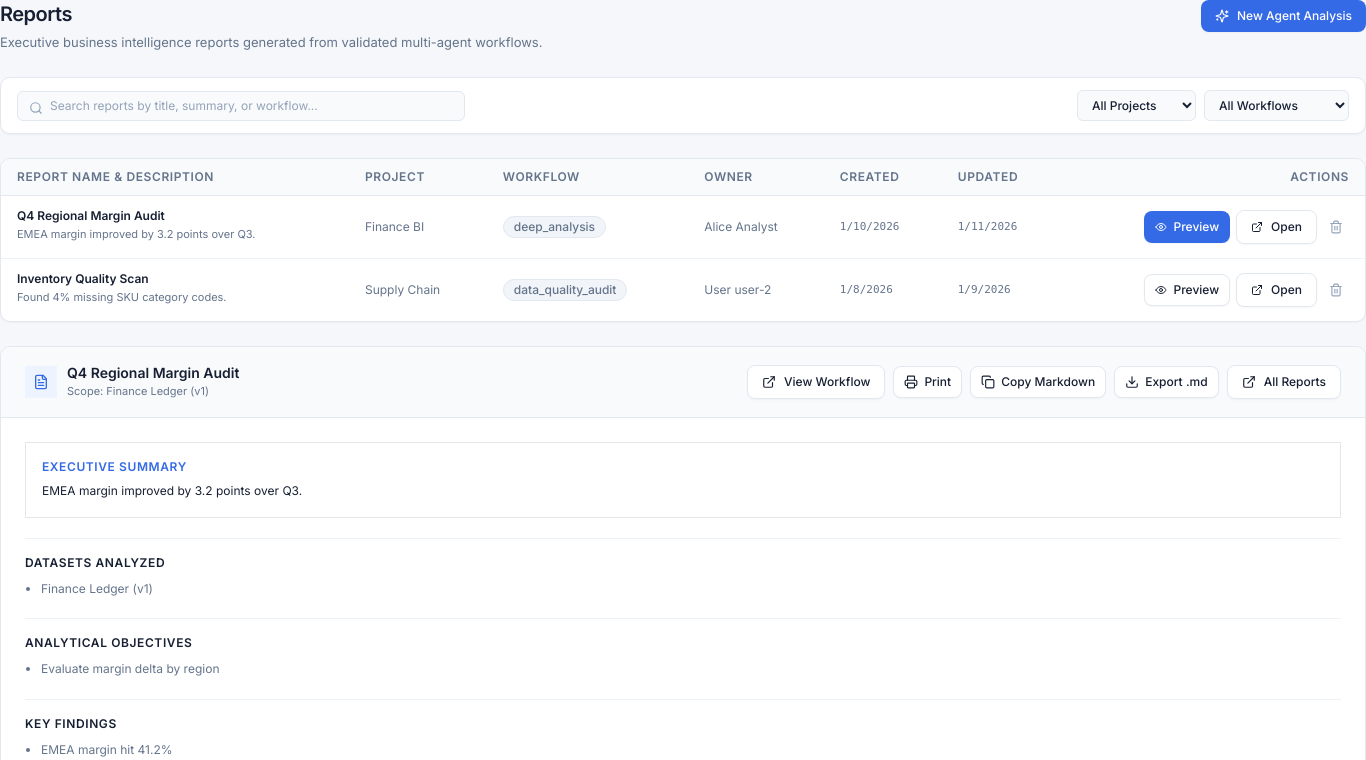
Test: Stage 6 — Reports, History, Saved Queries, Settings & Profile, and Help › renders Reports library with search/filters, BI charts inside report detail, and confirmed delete
Later steps or results of the test are not shown.
Check: the text "Finance BI" is shown, box [349,196,487,259]
# Filter by workflow type
Select "data_quality_audit" in the dropdown named "Filter reports by workflow" at [1276, 106], box [1204,90,1349,121]
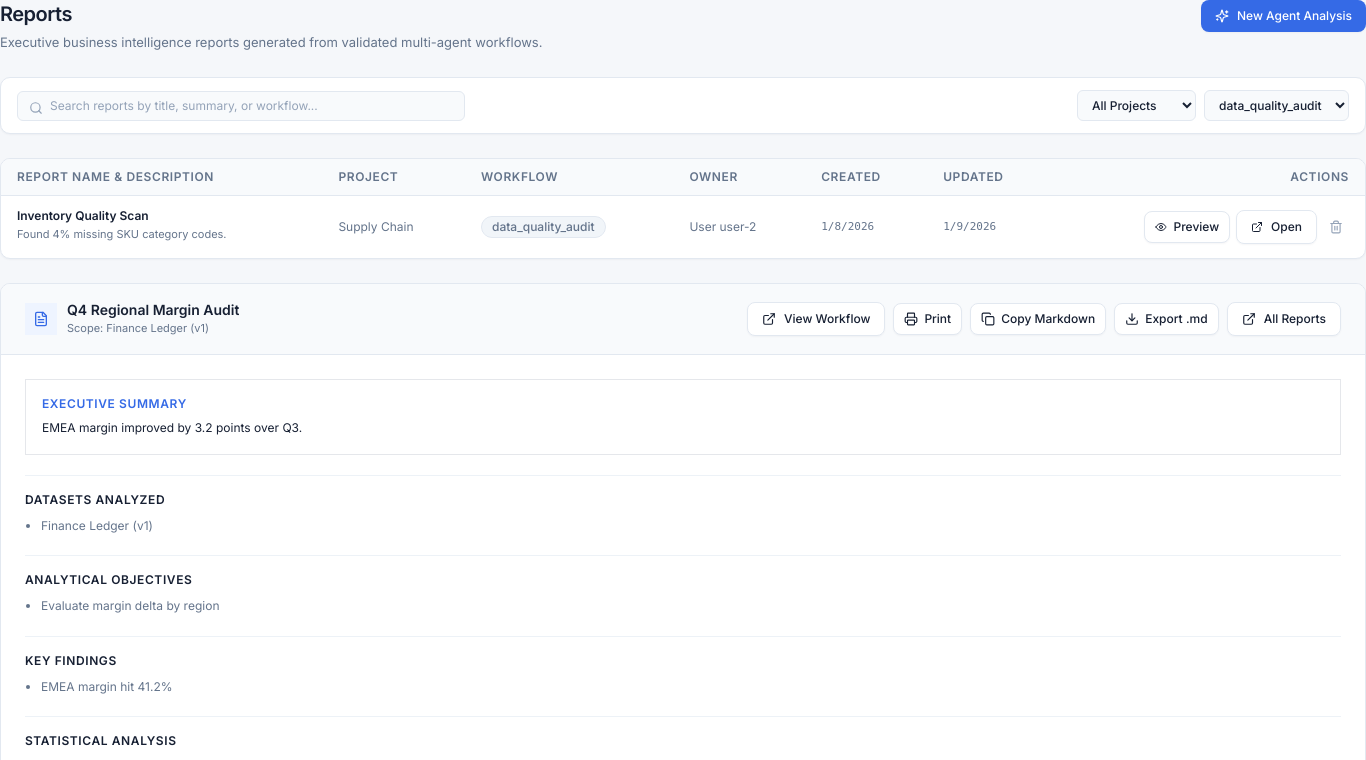
Check: the text "Inventory Quality Scan" is shown, box [17,208,149,223]
# Reset filter and test confirmation delete on first report
Select "All Workflows" in the dropdown named "Filter reports by workflow" at [1276, 106], box [1204,90,1349,121]
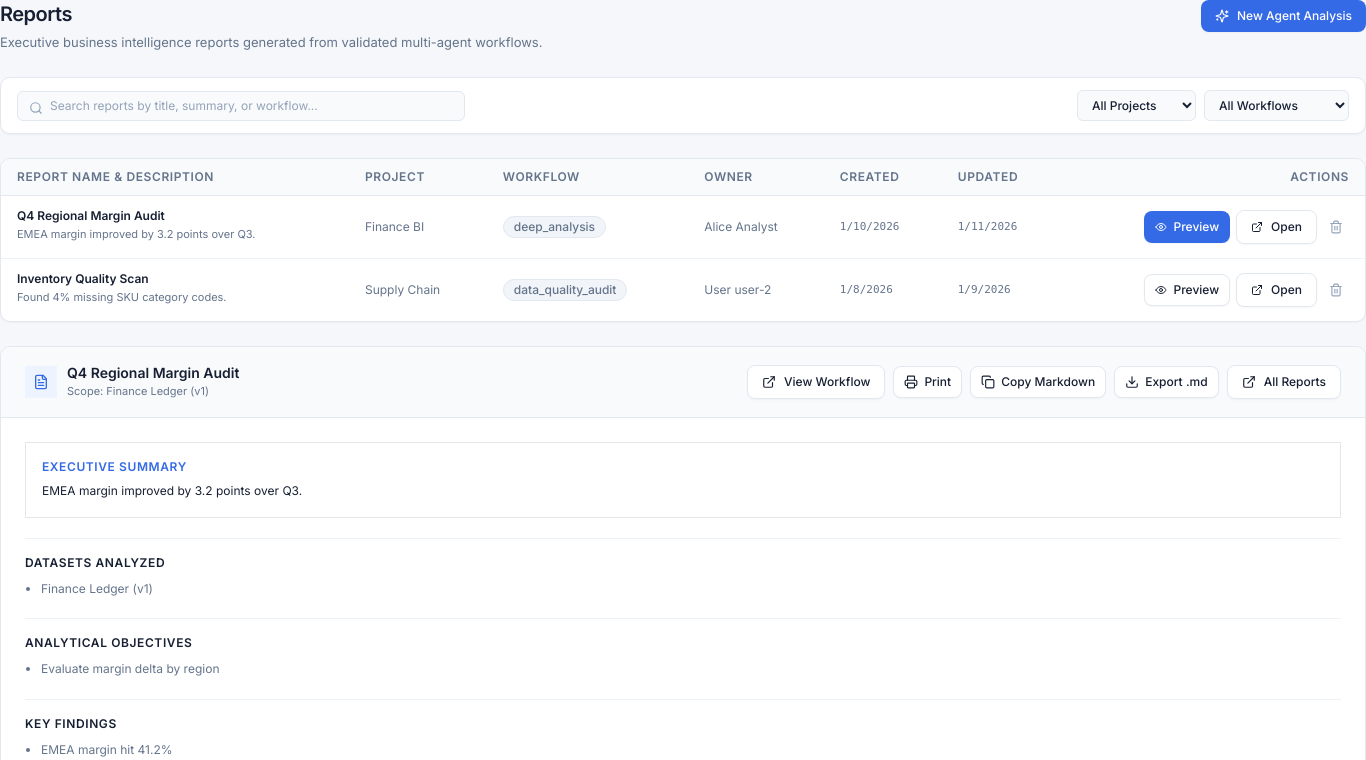
Click the button named "Delete report Q4 Regional Margin Audit" at [1336, 227], box [1323,214,1349,240]
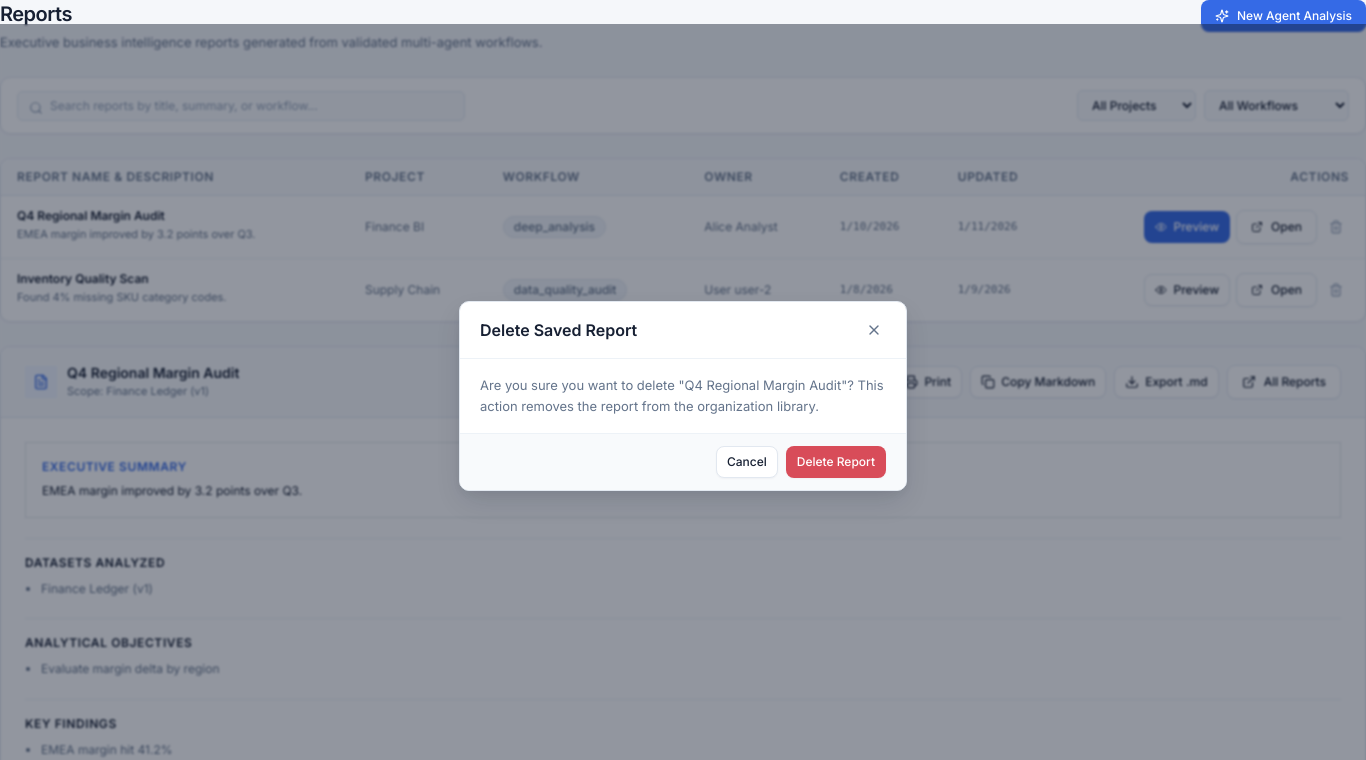
Check: the heading "Delete Saved Report" is shown, box [480,318,637,342]
